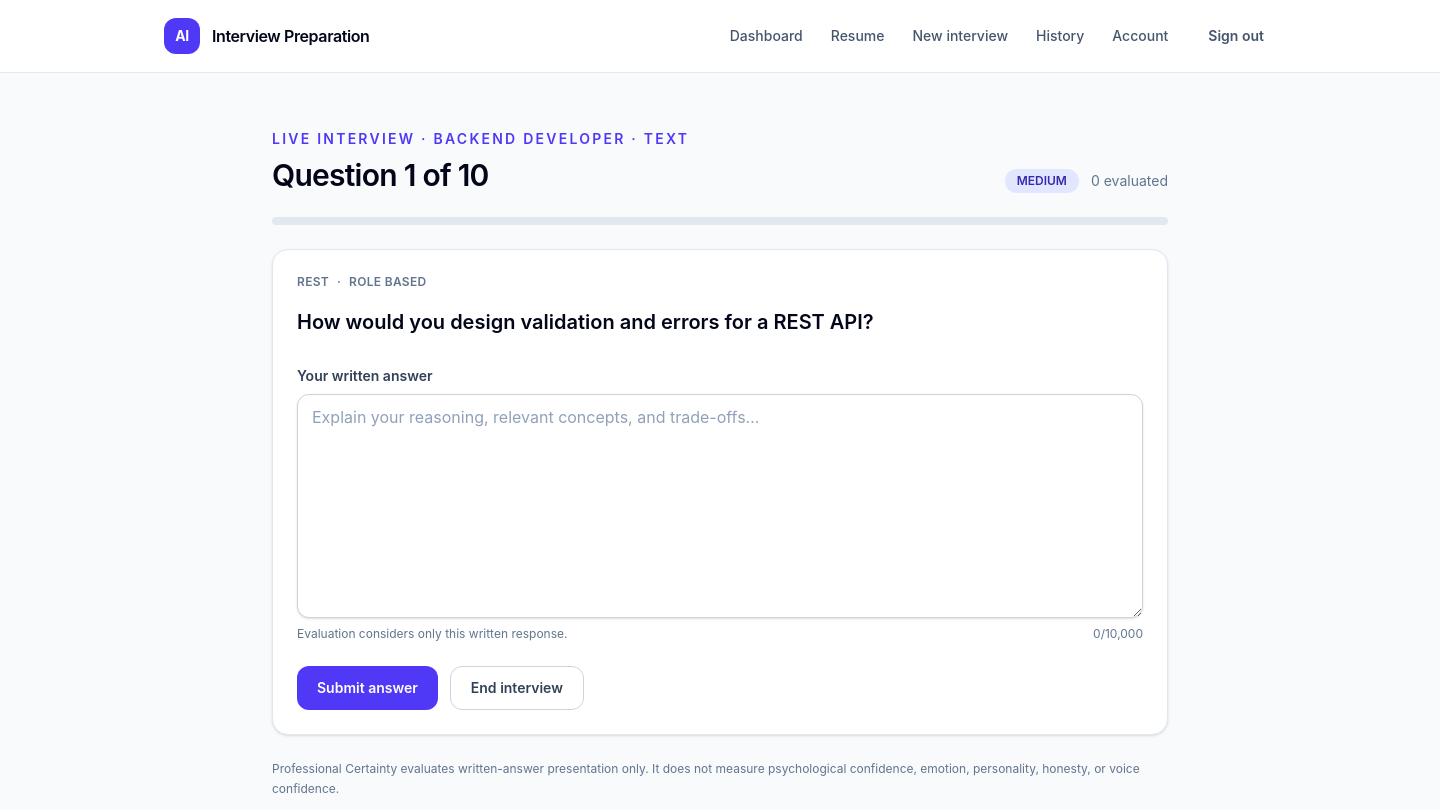
Test: Phase 3 interview pages › submits a live answer, shows structured feedback, and continues
This screenshot has width=1440, height=810.
Expected: the heading "How would you design validation and errors for a REST API?" is shown, [297, 310, 874, 334]
Step 1. Type "Validate input at the boundary and return a consistent safe error envelope." into the text box labelled "Your written answer" → (720,506), box [297, 394, 1143, 618]
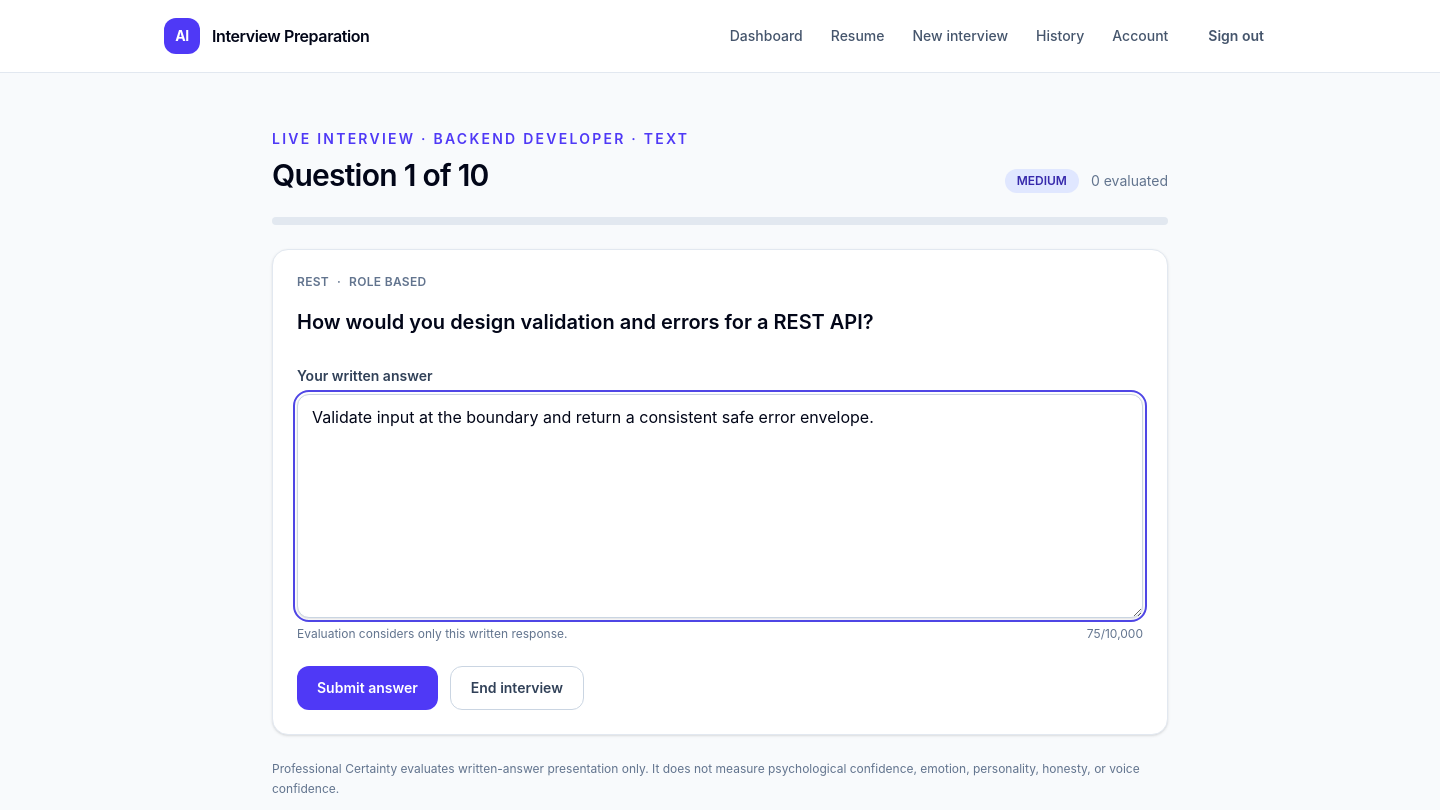
Step 2. Click the button "Submit answer" → (367,688), box [297, 666, 438, 710]
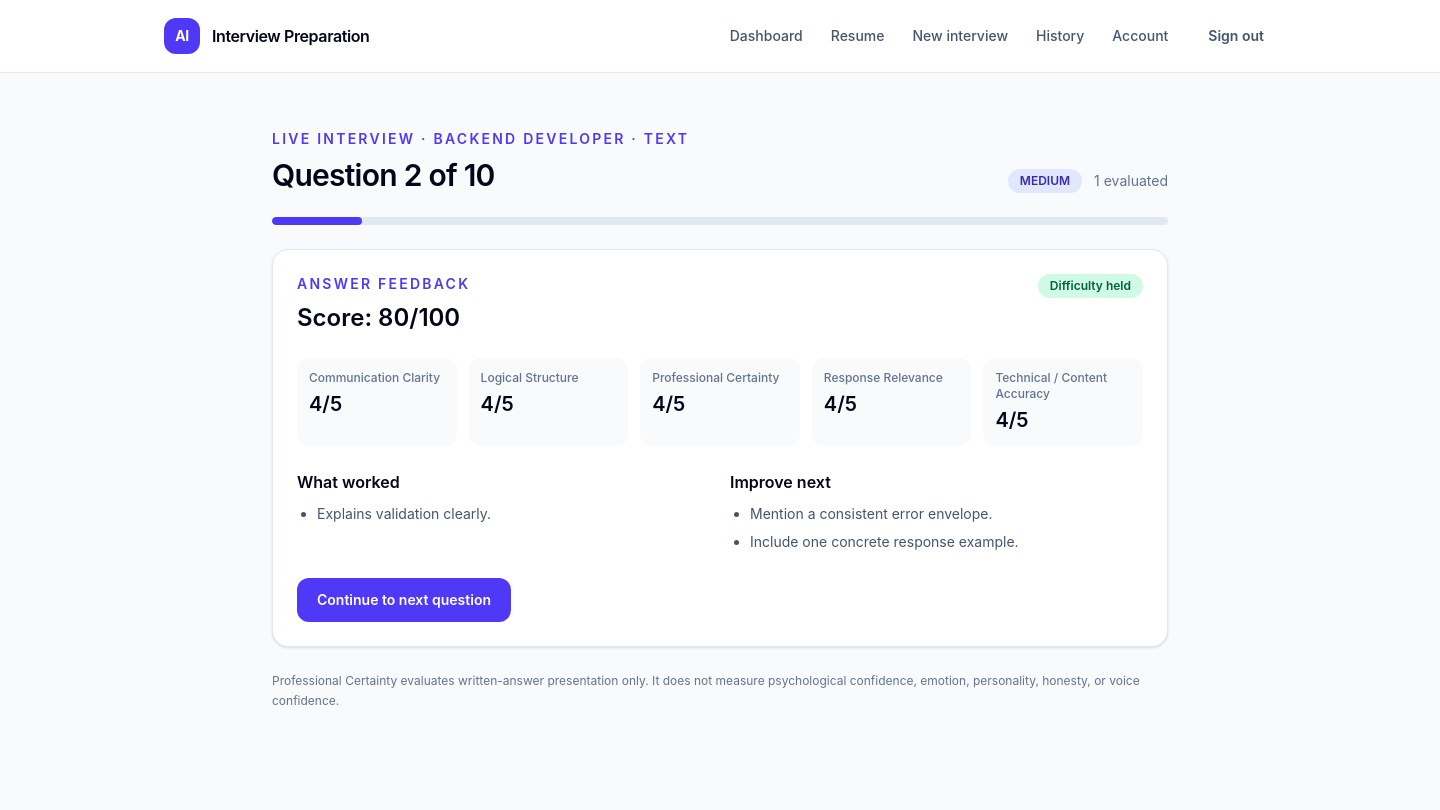
Now the heading "Score: 80/100" is shown, box [297, 302, 470, 334]
Now the text "Professional Certainty" is shown, box [652, 370, 788, 386]
Now the list item "Explains validation clearly." is shown, box [317, 505, 491, 522]
Step 3. Click the button "Continue to next question" → (404,600), box [297, 578, 511, 622]
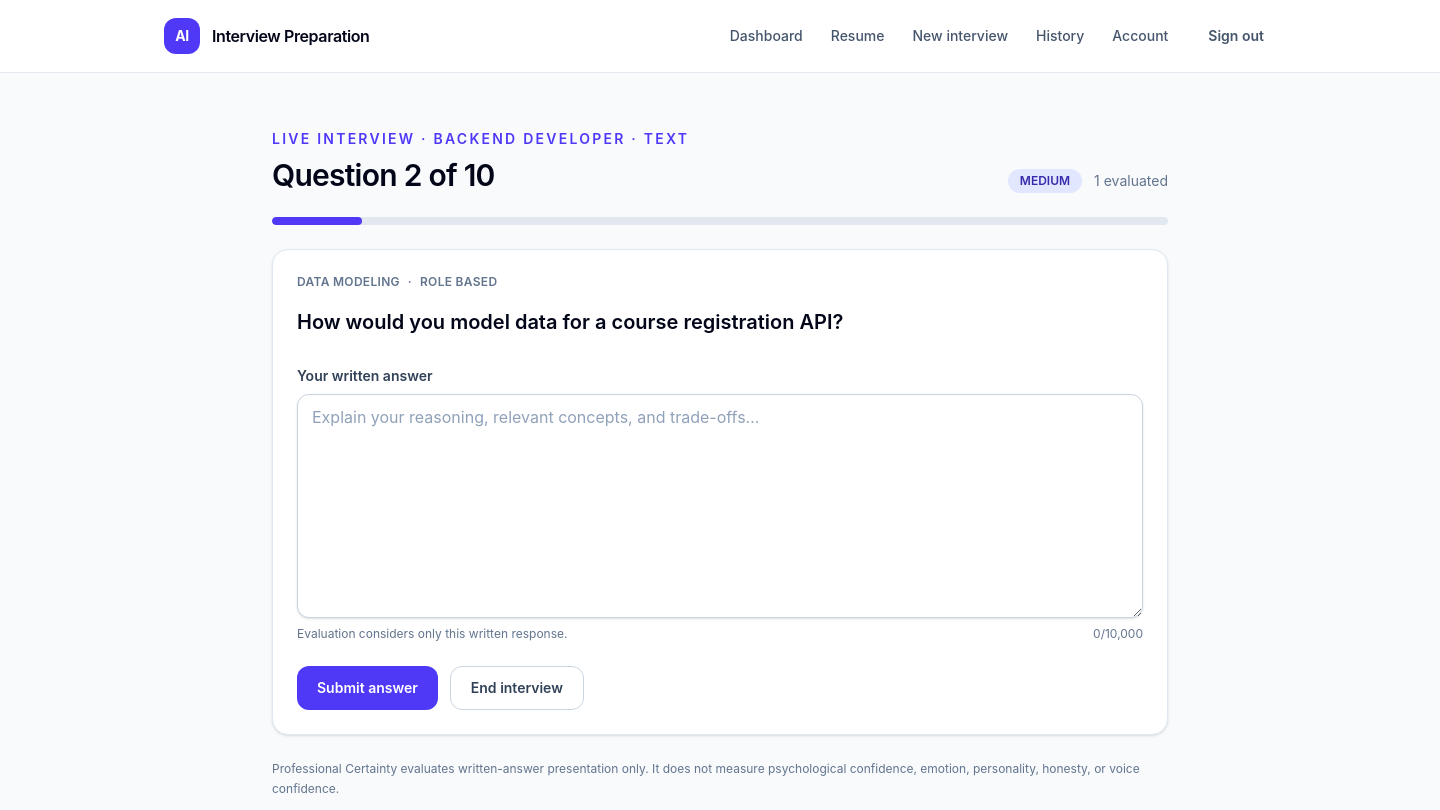
Now the heading "Question 2 of 10" is shown, box [272, 157, 495, 193]
Now the heading "How would you model data for a course registration API?" is shown, box [297, 310, 843, 334]
